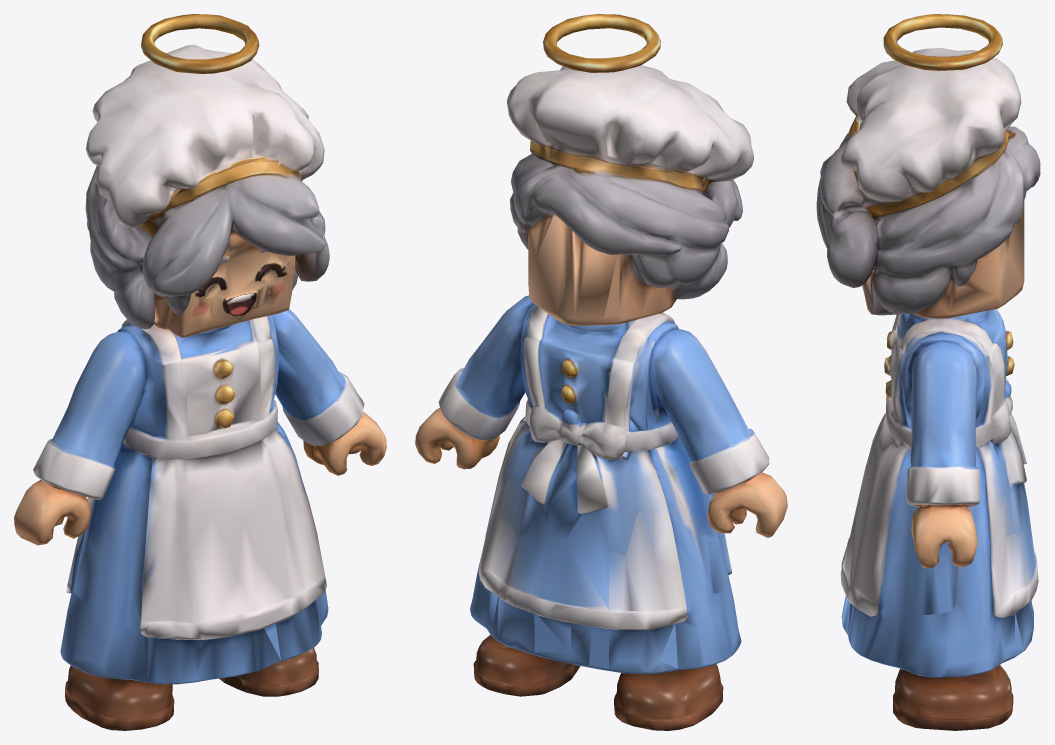
File: NPC_HaloBakerGranny_HD_LOD.glb
3 views of the same model, side by side, from view 1: azimuth 30°, elevation 25°; view 2: azimuth 150°, elevation 25°; view 3: azimuth 270°, elevation 25° (orthographic). The views are drawn at different scales.
Parts seen in each view (by area): view 1: tripo_node_acdfb5fb-6a88-474d-8bc2-3e5aded8387d; view 2: tripo_node_acdfb5fb-6a88-474d-8bc2-3e5aded8387d; view 3: tripo_node_acdfb5fb-6a88-474d-8bc2-3e5aded8387d.
Boxes of the visible parts, bbox=[...] form: tripo_node_acdfb5fb-6a88-474d-8bc2-3e5aded8387d: bbox=[14, 14, 386, 730]; tripo_node_acdfb5fb-6a88-474d-8bc2-3e5aded8387d: bbox=[415, 14, 787, 730]; tripo_node_acdfb5fb-6a88-474d-8bc2-3e5aded8387d: bbox=[816, 14, 1040, 730].
Bounding box in the file's own units: 0.5597 × 0.9806 × 0.3096.
1 material, 1 textured.
